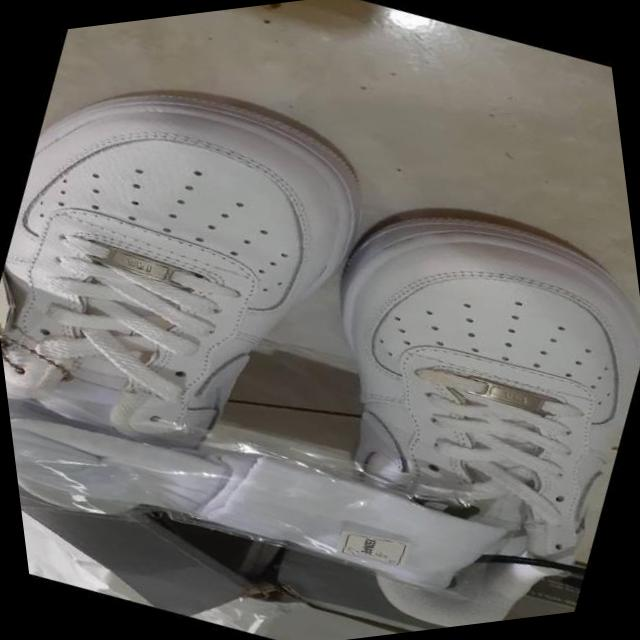nike_fake_airforce: (0, 19, 429, 592), (211, 152, 640, 640)
